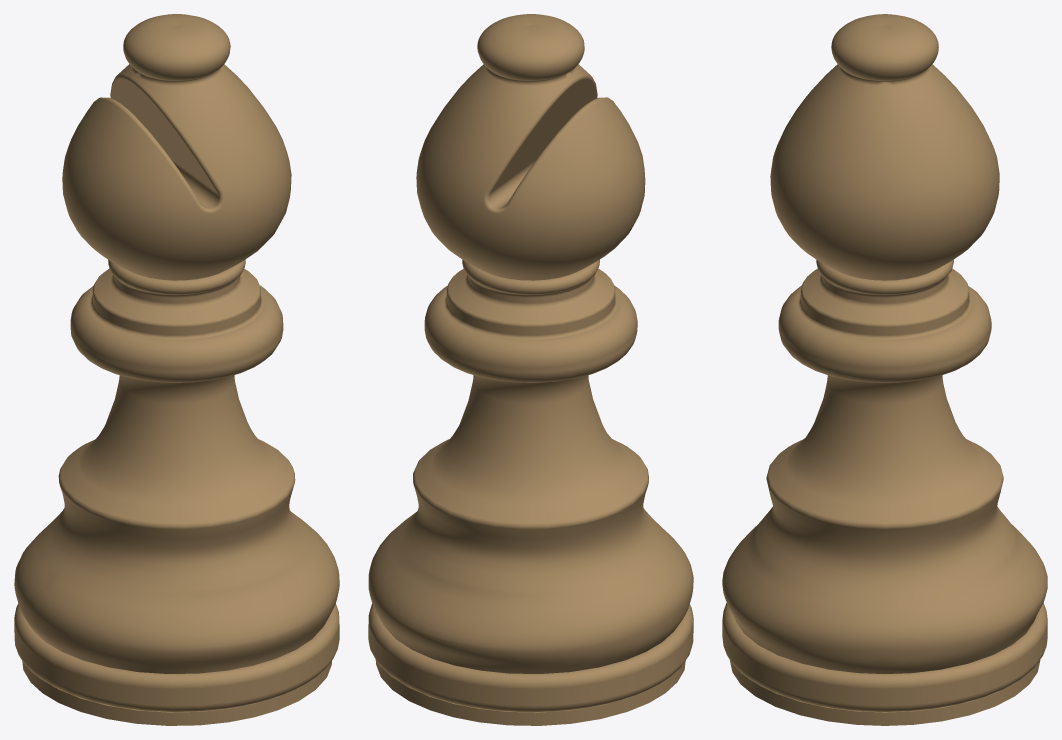
The model's file is BishopGold.fbx.
The picture shows the model from 3 angles, left to right: view 1: azimuth 30°, elevation 25°; view 2: azimuth 150°, elevation 25°; view 3: azimuth 270°, elevation 25°; orthographic projection.
Visible parts, largest first — view 1: Слон (1) (1) (1); view 2: Слон (1) (1) (1); view 3: Слон (1) (1) (1).
Boxes of the visible parts, x1=… form: Слон (1) (1) (1): x1=14, y1=14, x2=339, y2=725; Слон (1) (1) (1): x1=368, y1=14, x2=693, y2=725; Слон (1) (1) (1): x1=722, y1=14, x2=1047, y2=725.
Size of the model in its own units: 1.94 by 4.17 by 1.94.
